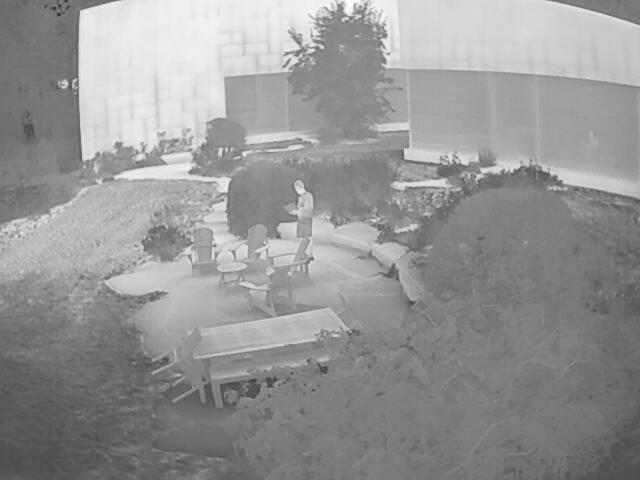person: (292, 178, 316, 265)
